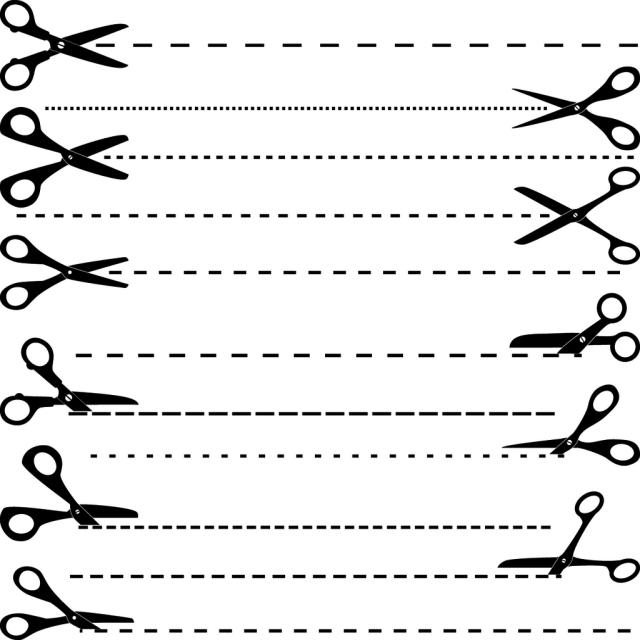scissors: (0, 444, 138, 542), (0, 106, 129, 207), (497, 492, 639, 582), (512, 166, 640, 264), (0, 337, 138, 425), (0, 0, 129, 91), (502, 384, 639, 466), (510, 66, 640, 150), (0, 234, 129, 310), (0, 566, 134, 639), (509, 293, 639, 362)
